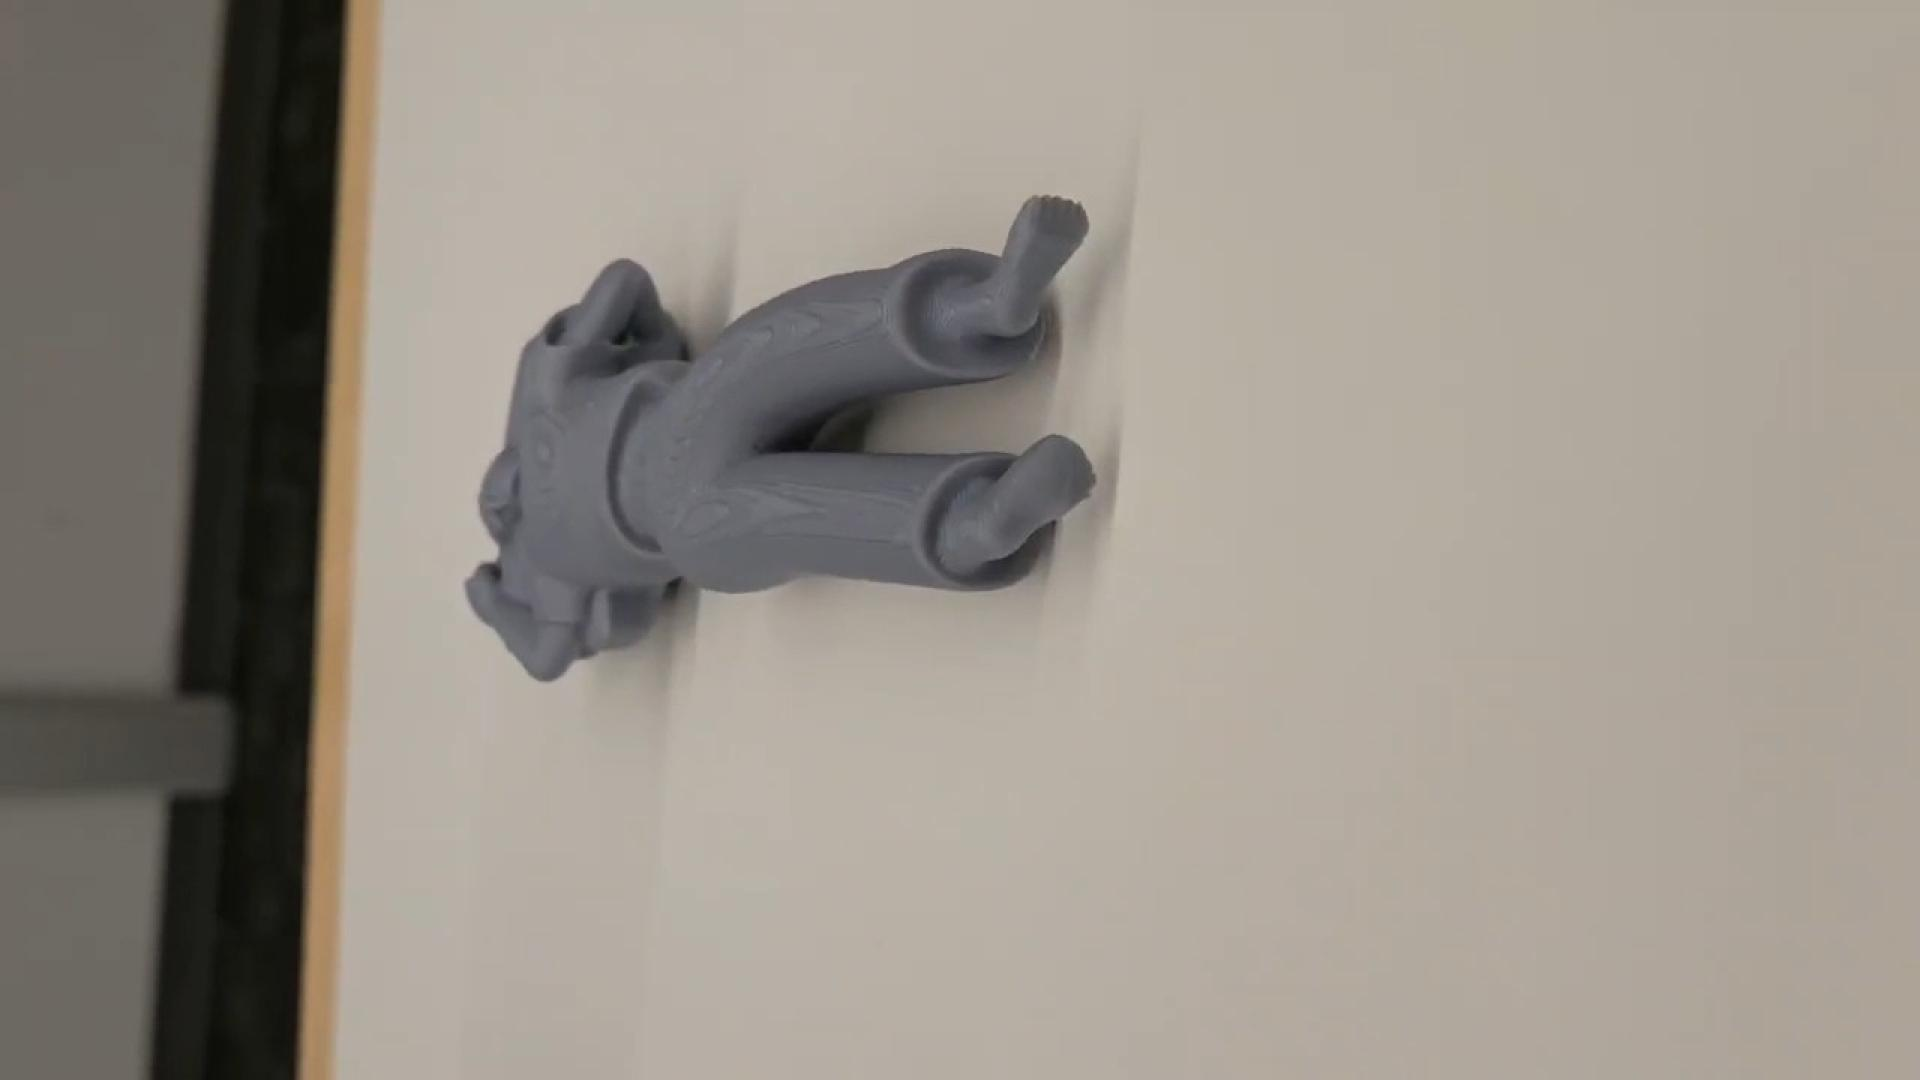Bad-style: (447, 195, 1104, 694)
